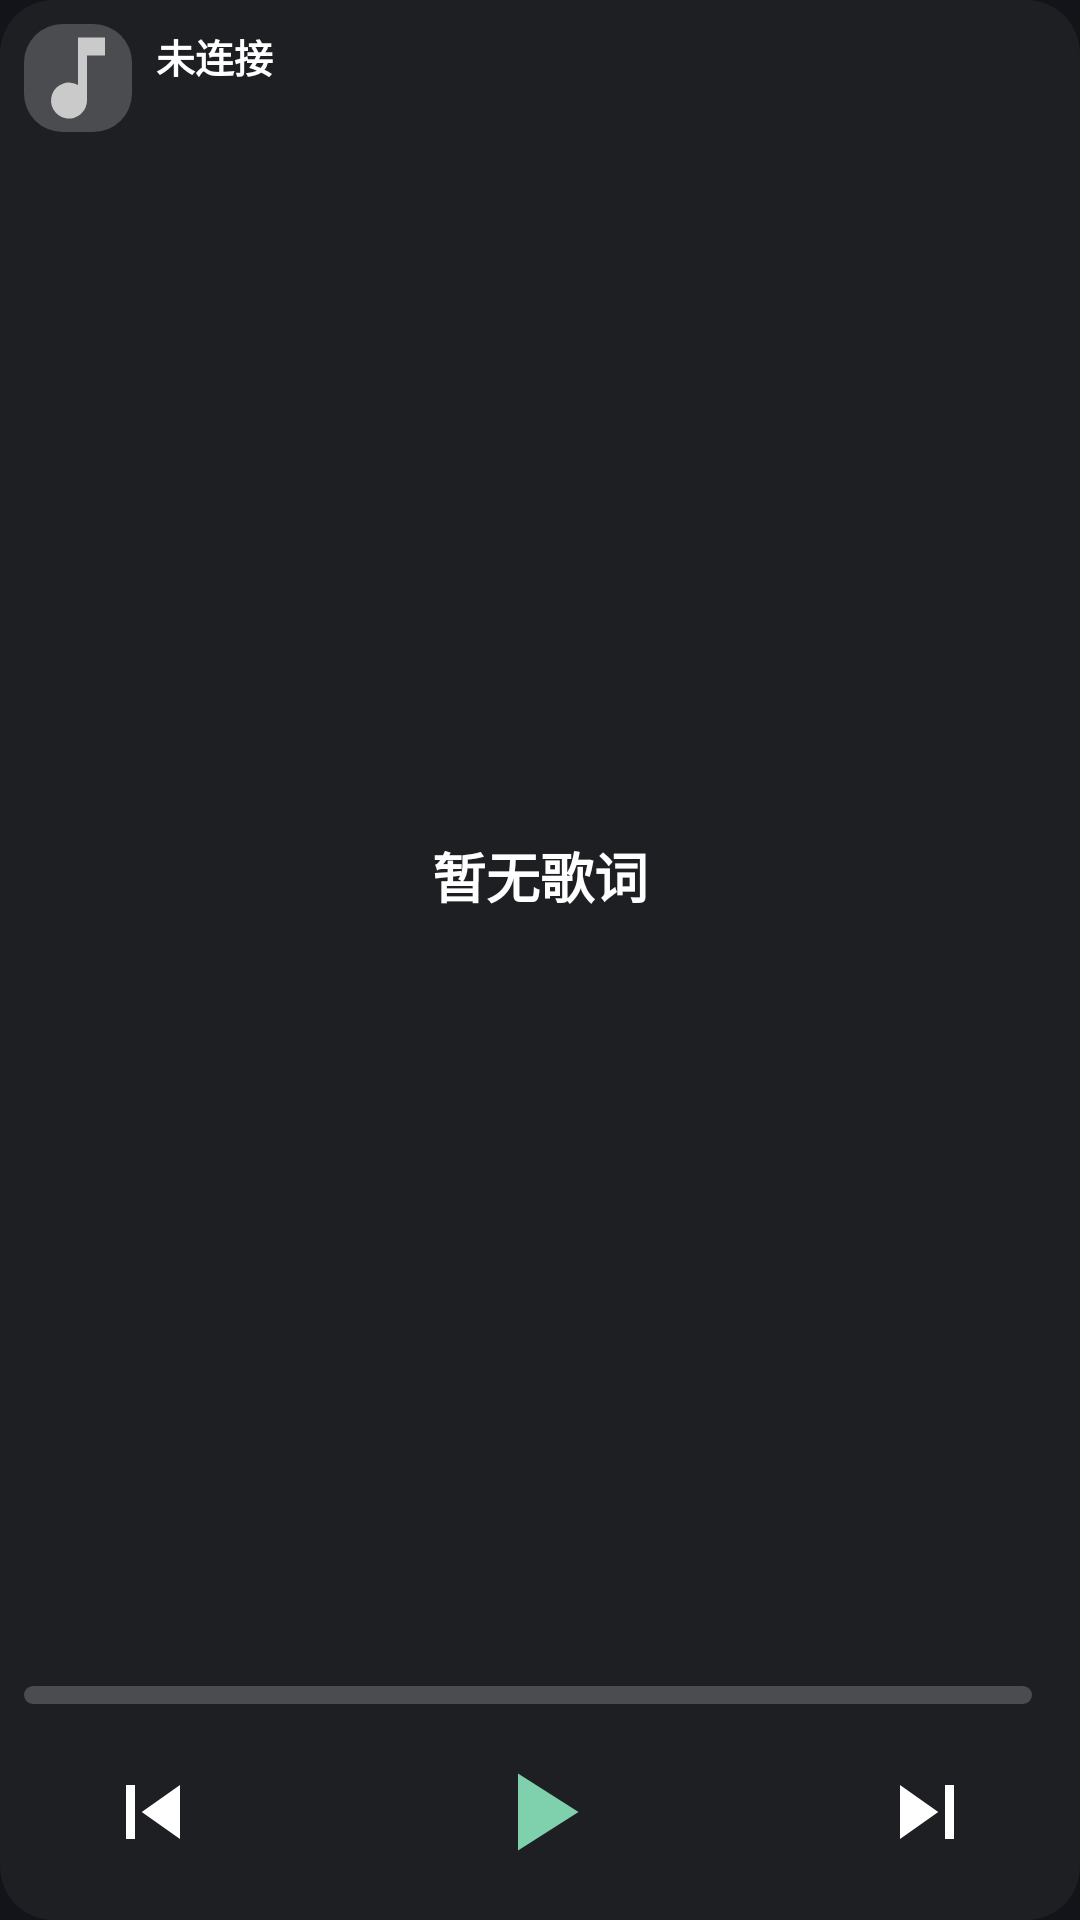

Where icons sit on this 1080*1920 app screen, as (x1, y1, x2, y2):
上一首: (126, 1785, 180, 1839)
下一首: (900, 1785, 954, 1839)
播放或暂停: (518, 1773, 578, 1851)
